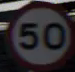Speed limit: (5, 4, 70, 62)
